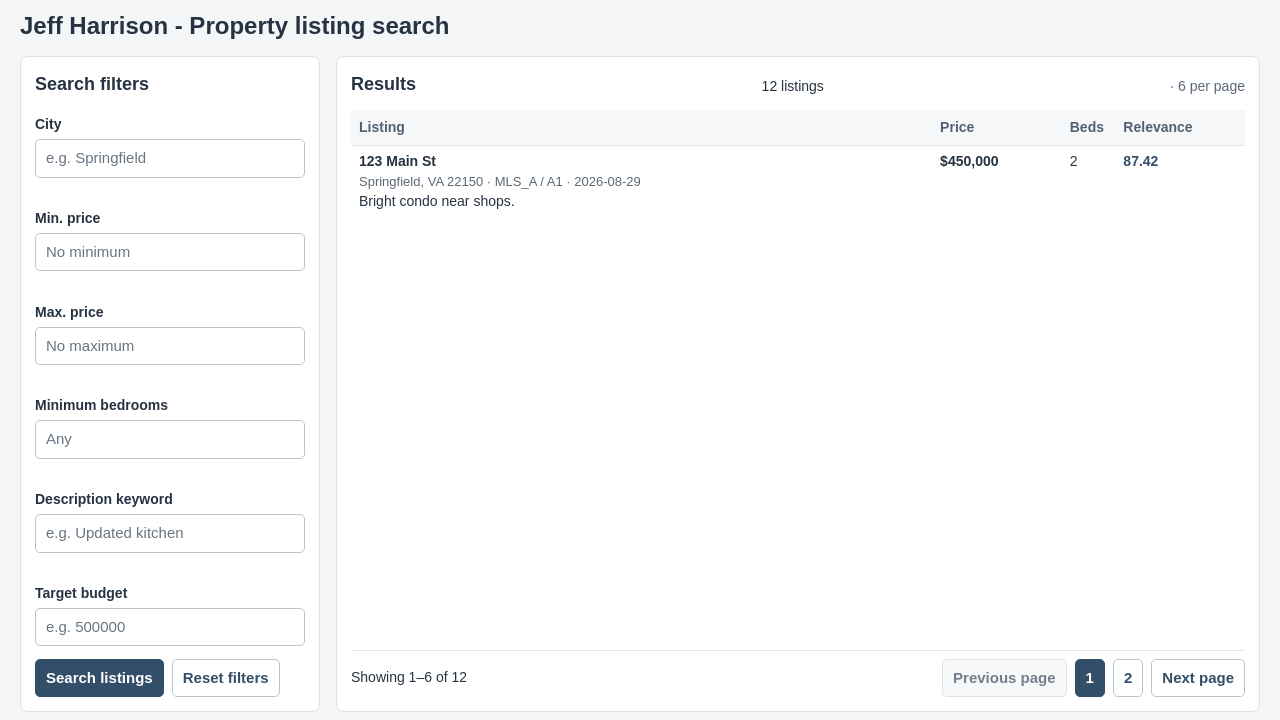
Test case: listing search › revalidates cached pages after the freshness window expires
This screenshot has width=1280, height=720.
Expected: the table named "Listing results" is shown, x1=351 y1=110 x2=1245 y2=650
Click the button "Next page".
click(1198, 678)  # box x1=1151 y1=658 x2=1245 y2=697
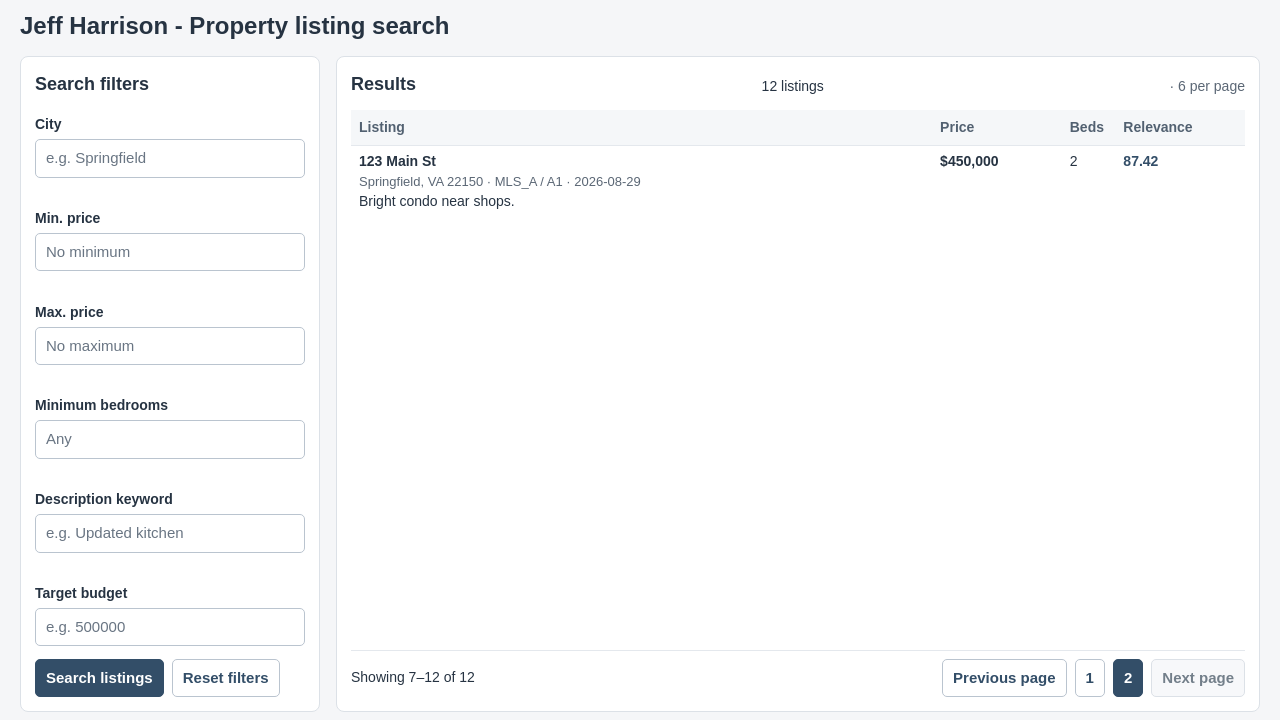
Now the text "Showing 7–12 of 12" is shown, box x1=351 y1=667 x2=475 y2=688
Click the button "Previous page".
click(1004, 678)  # box x1=942 y1=658 x2=1067 y2=697
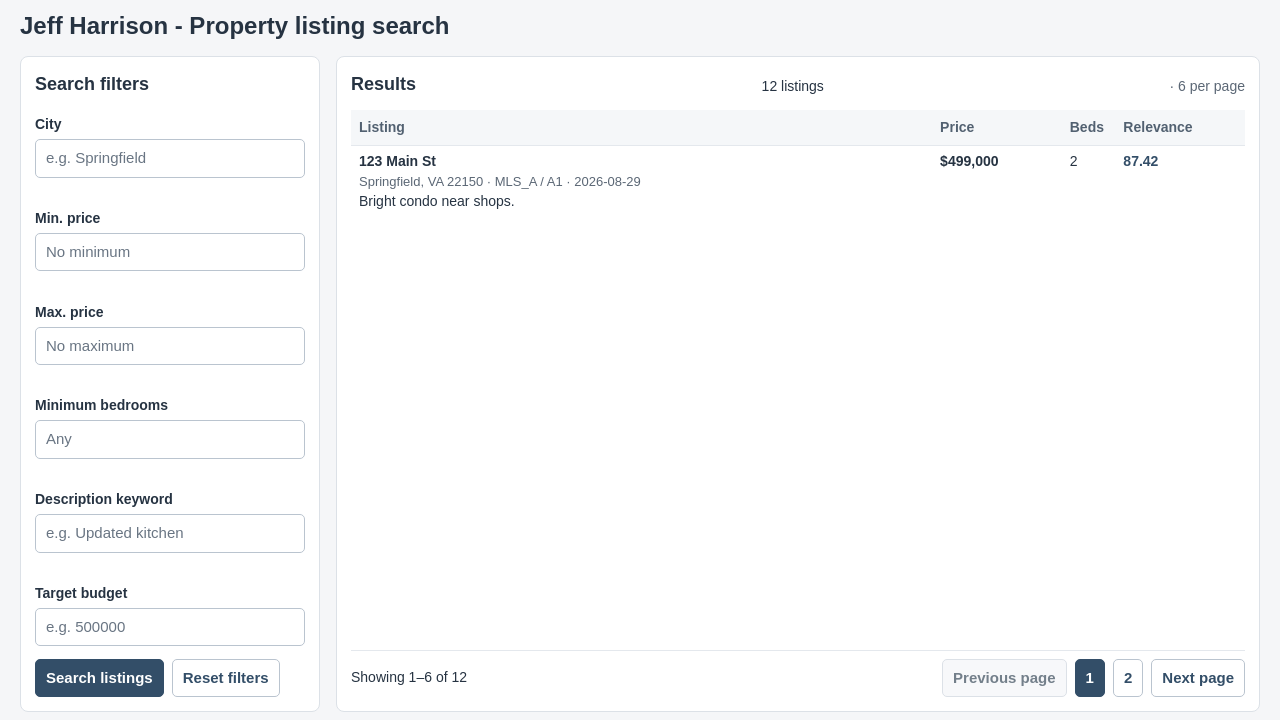
Now the text "$499,000" is shown, box x1=932 y1=145 x2=1062 y2=650
